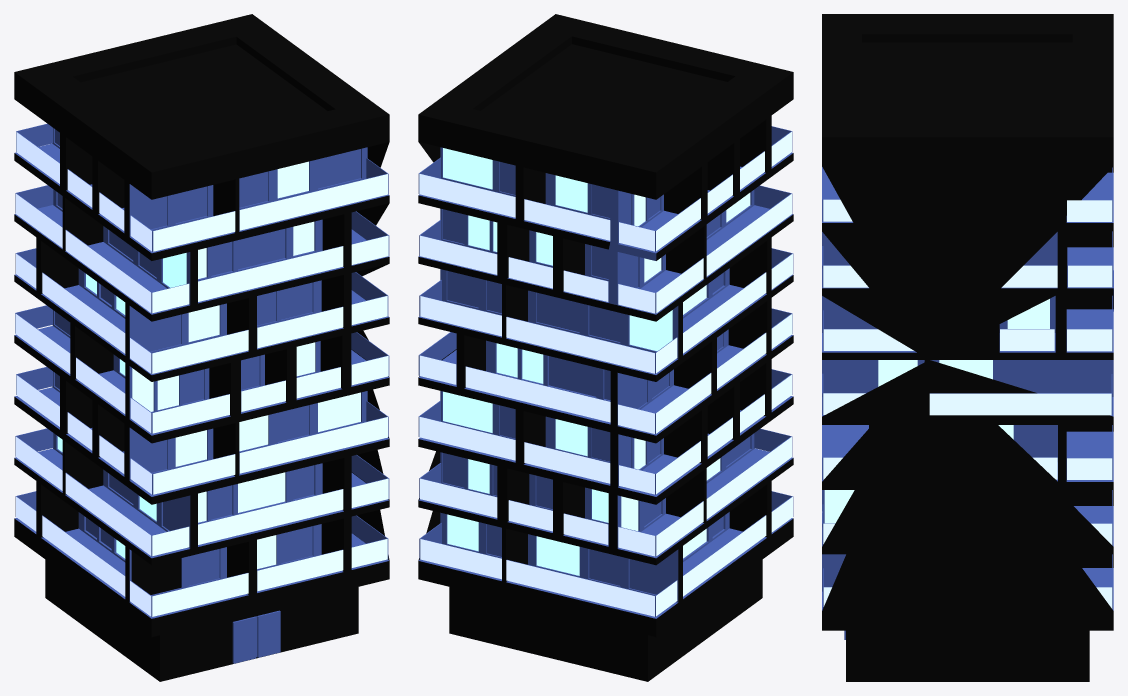
The model's file is l1building4.fbx.
The picture shows the model from 3 angles, left to right: view 1: azimuth 30°, elevation 25°; view 2: azimuth 150°, elevation 25°; view 3: azimuth 270°, elevation 25°; orthographic projection. The views are drawn at different scales.
Parts seen in each view (by area): view 1: Cube.261_LOD0; view 2: Cube.261_LOD0; view 3: Cube.261_LOD0.
Boxes of the visible parts, left/top/right/bottom form: Cube.261_LOD0: left=14, top=14, right=389, bottom=681; Cube.261_LOD0: left=418, top=14, right=793, bottom=681; Cube.261_LOD0: left=822, top=14, right=1113, bottom=681.
Size of what is drawn, in the model's own units: 12.1 by 25.37 by 12.1.
